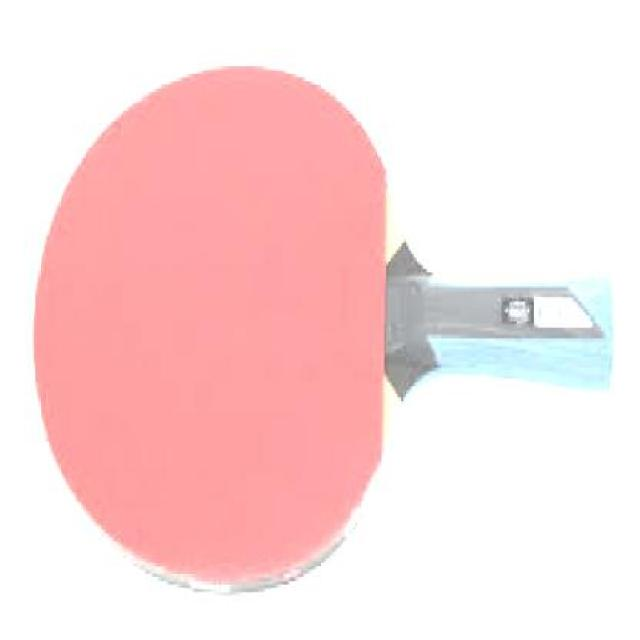table_tennis_racket: (29, 63, 623, 598)
